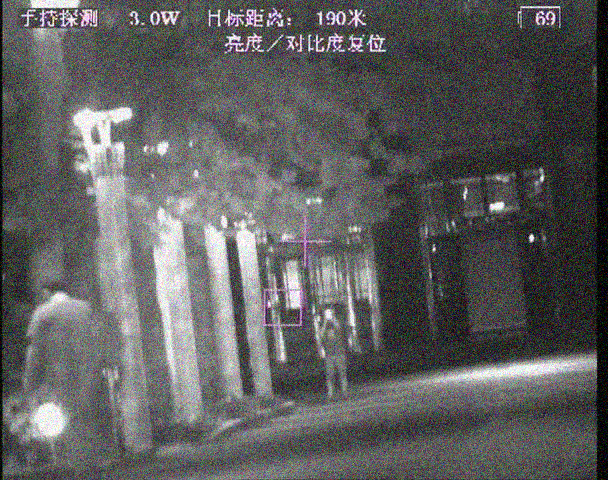my: (323, 307, 333, 320)
